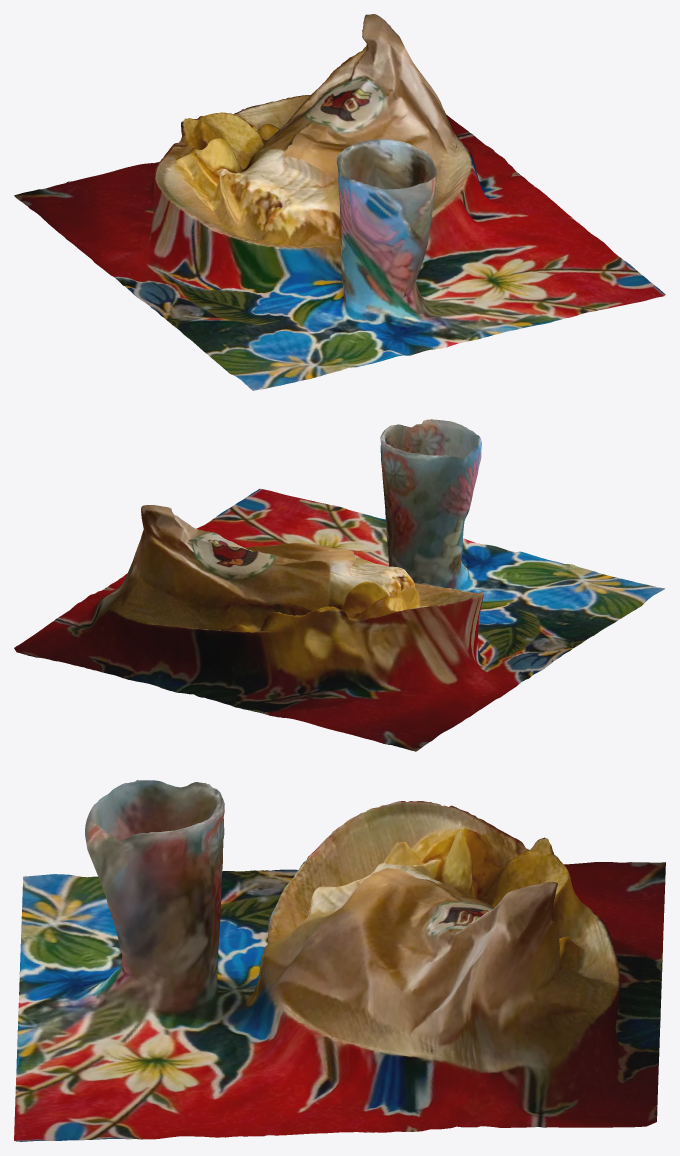
Rendered from S003_Burrito.glb.
3 views of the same model, one above another, from view 1: azimuth 30°, elevation 25°; view 2: azimuth 150°, elevation 25°; view 3: azimuth 270°, elevation 25° (orthographic). The views are drawn at different scales.
Parts seen in each view (by area): view 1: Object_4; view 2: Object_4; view 3: Object_4.
Boxes of the visible parts, x1,y1,x2,y2 form: Object_4: (14, 14, 665, 390); Object_4: (14, 419, 665, 751); Object_4: (14, 780, 665, 1141).
Bounding box in the file's own units: 1.23 × 0.4337 × 1.27.
Materials: 1 (1 with a texture image).
